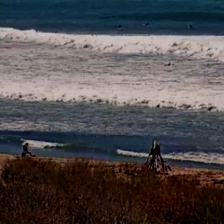surfer: (143, 22, 150, 27), (187, 24, 194, 29), (164, 63, 172, 67), (117, 24, 123, 29)
